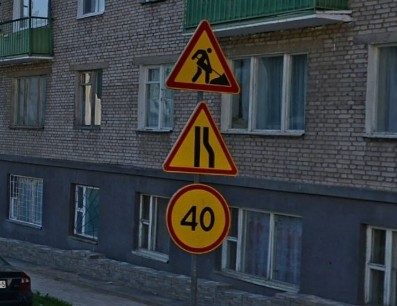1.18.5: (162, 107, 242, 176)
1.23: (162, 17, 241, 93)
